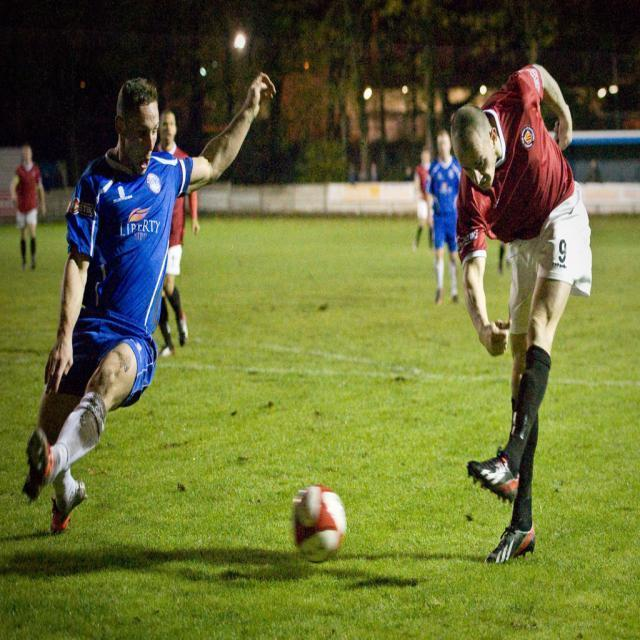football: (281, 468, 366, 577)
